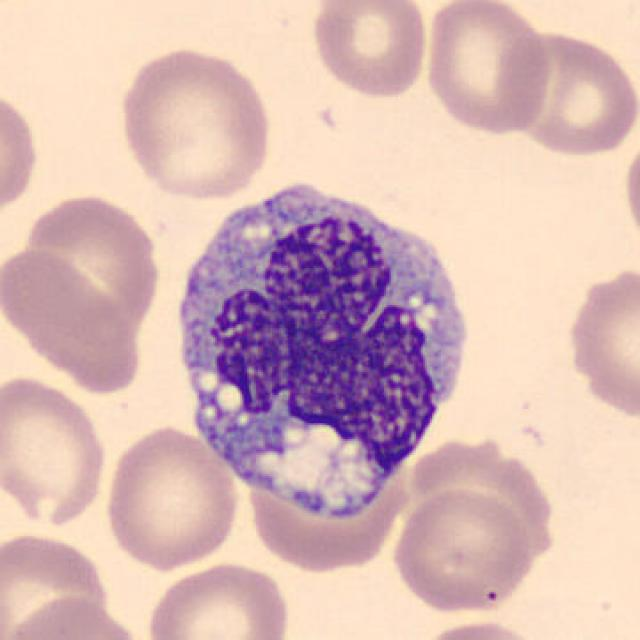Monocyte: (160, 162, 485, 526)
RBC: (114, 42, 276, 203), (11, 188, 167, 346), (0, 240, 146, 405), (100, 421, 242, 573), (401, 436, 553, 571), (389, 485, 537, 615), (420, 0, 554, 136), (503, 26, 638, 160), (0, 372, 110, 531), (562, 261, 640, 425), (0, 527, 112, 640), (307, 0, 432, 100), (142, 559, 295, 640), (2, 592, 148, 640), (0, 81, 43, 224), (411, 617, 549, 640), (620, 125, 640, 256)
